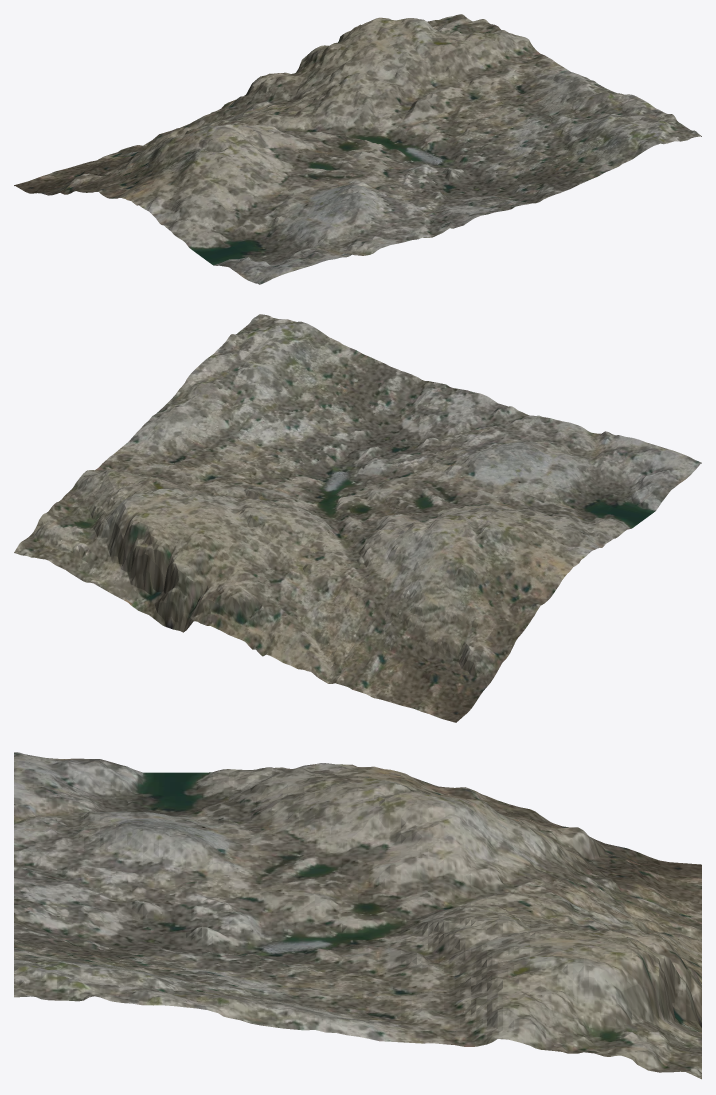
3 renders of one model, top to bottom at view 1: azimuth 30°, elevation 25°; view 2: azimuth 150°, elevation 25°; view 3: azimuth 270°, elevation 25°, orthographic. The views are drawn at different scales.
Size of the model in its own units: 500 by 135 by 481.
1 material, 1 textured.
